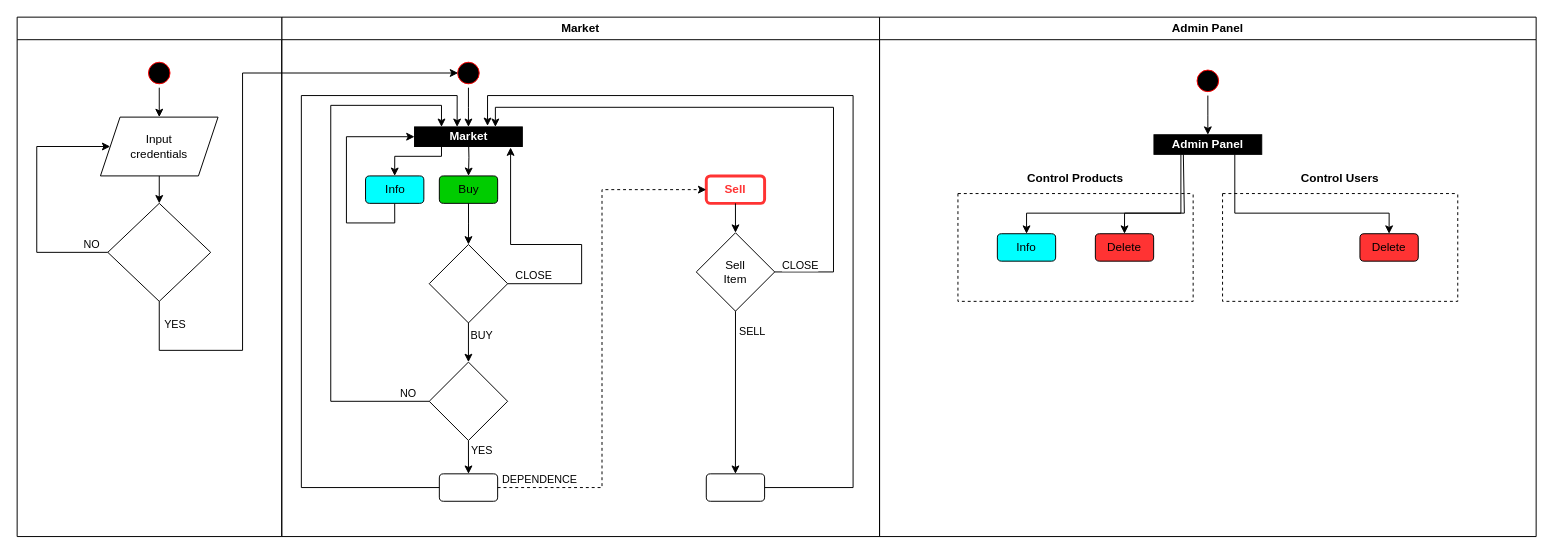
Some shapes in this 1553 by 554 pixel diagram are drawn without their labels. Here are the shapes that lost their labels. From the top down, the box of each, then its label:
(107, 202, 211, 301): Credentials are valid?
(16, 16, 282, 537): Login
(428, 244, 508, 323): Purchase Item
(428, 361, 508, 441): Balance ok?
(438, 473, 498, 501): Bought
(705, 473, 765, 501): Sold
